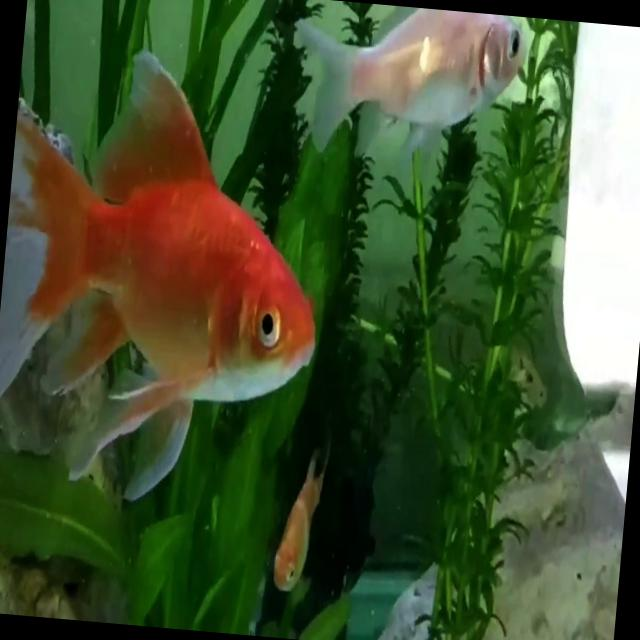GoldFish: (0, 49, 342, 471), (293, 0, 534, 171), (276, 478, 315, 588)
